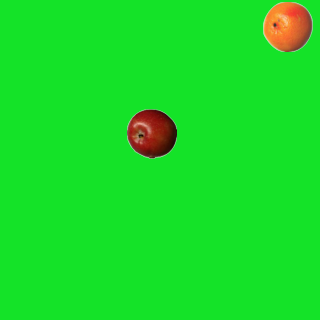Apple Braeburn: (126, 108, 176, 158)
Grapefruit Pink: (262, 1, 312, 51)
